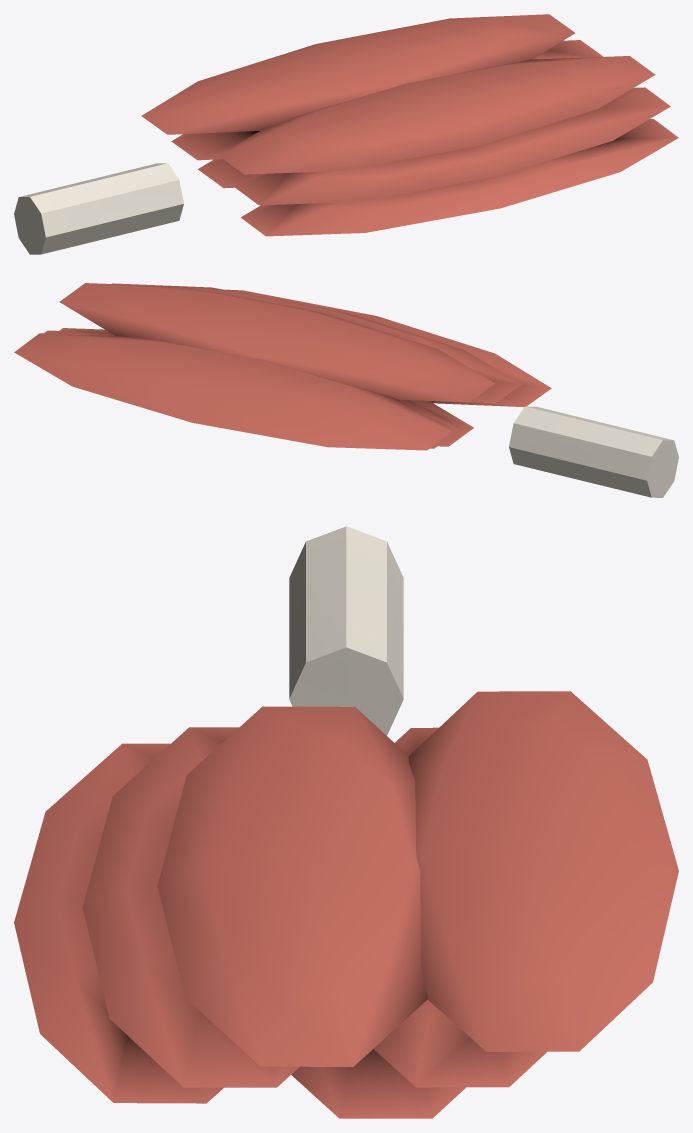
The model's file is forage_leaves.glb.
The picture shows the model from 3 angles, top to bottom: view 1: azimuth 30°, elevation 25°; view 2: azimuth 150°, elevation 25°; view 3: azimuth 270°, elevation 25°; orthographic projection. The views are drawn at different scales.
Parts seen in each view (by area): view 1: PART; view 2: PART; view 3: PART.
Boxes of the visible parts, x1,y1,x2,y2 form: PART: (14, 14, 678, 254); PART: (14, 283, 678, 497); PART: (14, 526, 678, 1118).
Bounding box in the file's own units: 0.1742 × 0.018 × 0.0928.
